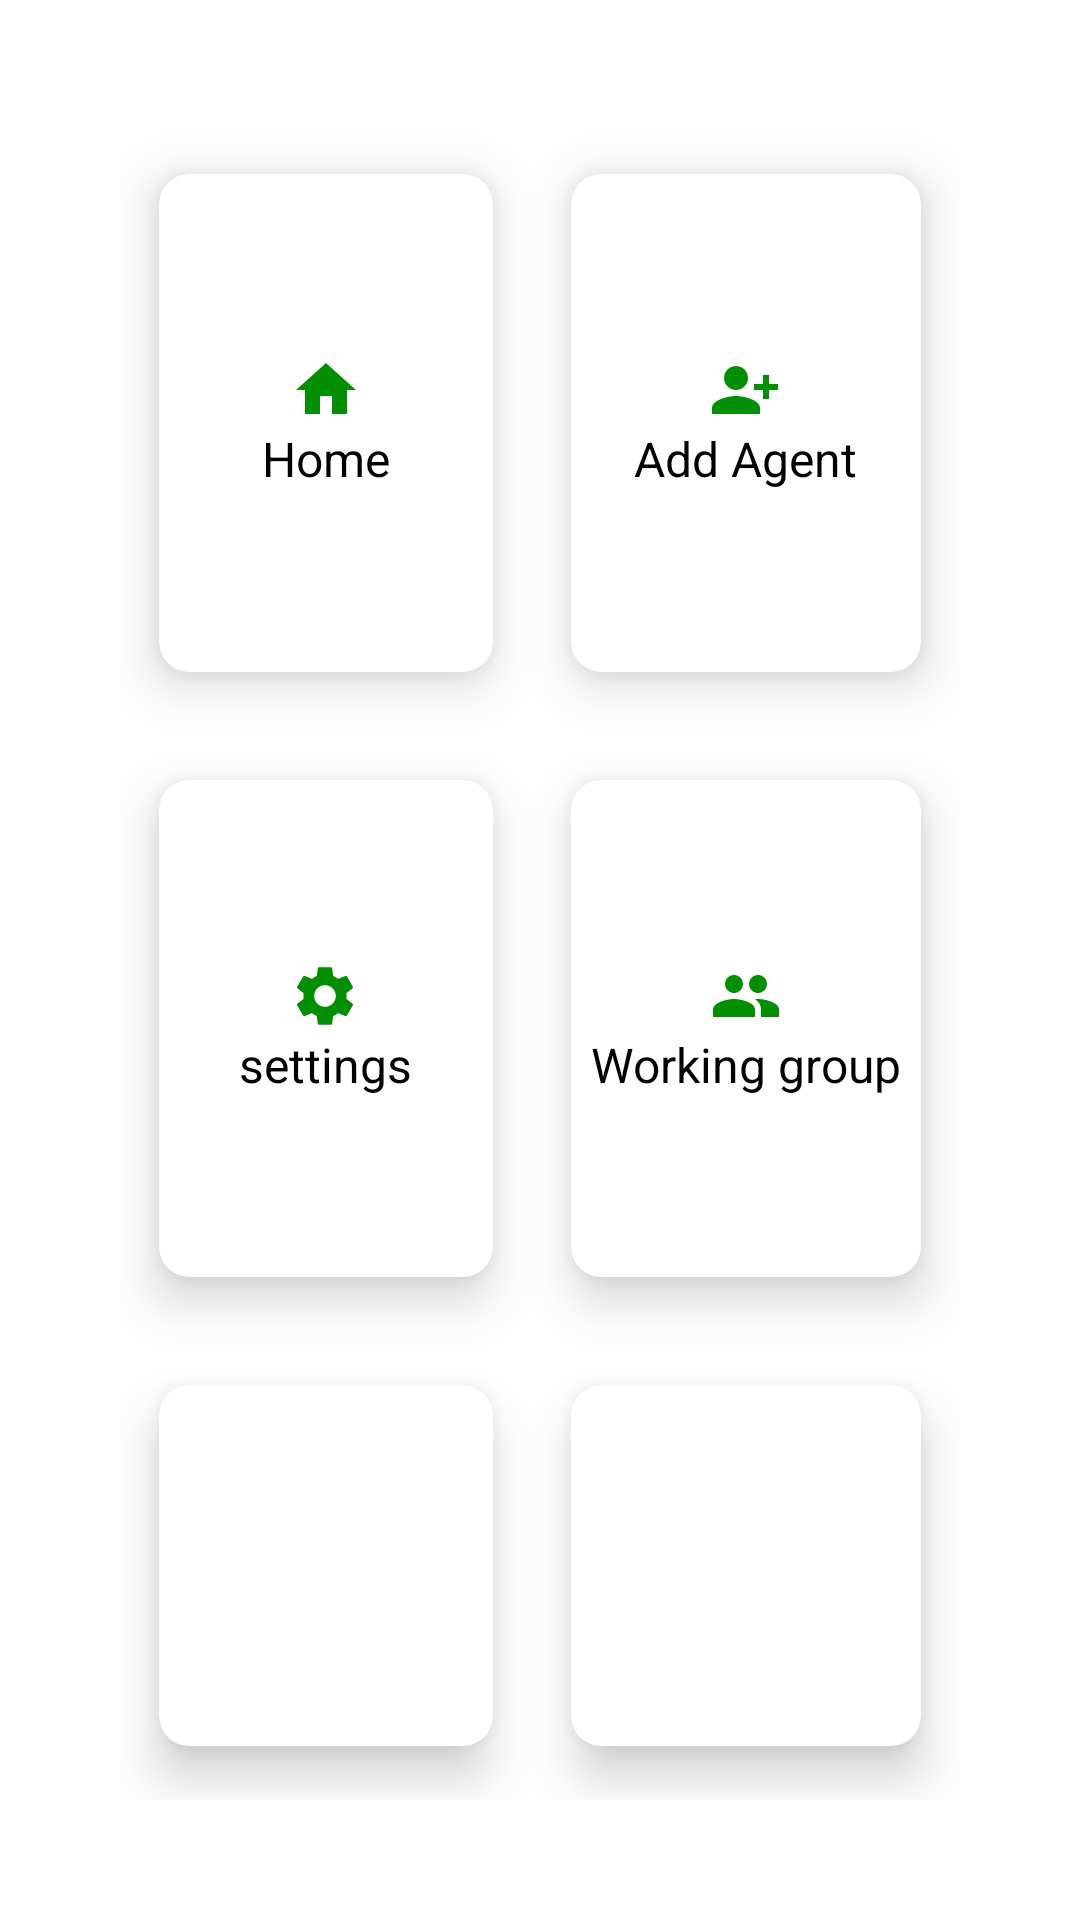

Icons on this 1080 x 1920 Android screen, each with the point to tap as point (x, y):
people: point (746, 996)
person add: point (745, 390)
